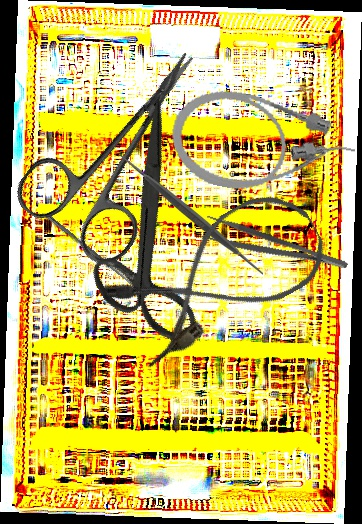Cannula: (100, 178, 338, 372), (163, 80, 362, 212)
Dressing Forceps: (199, 212, 350, 285)
Iris Scissors: (31, 99, 269, 364), (8, 19, 244, 275)
Spatula Surgical: (120, 144, 263, 284)
Surgical Spoon: (44, 213, 140, 292)
